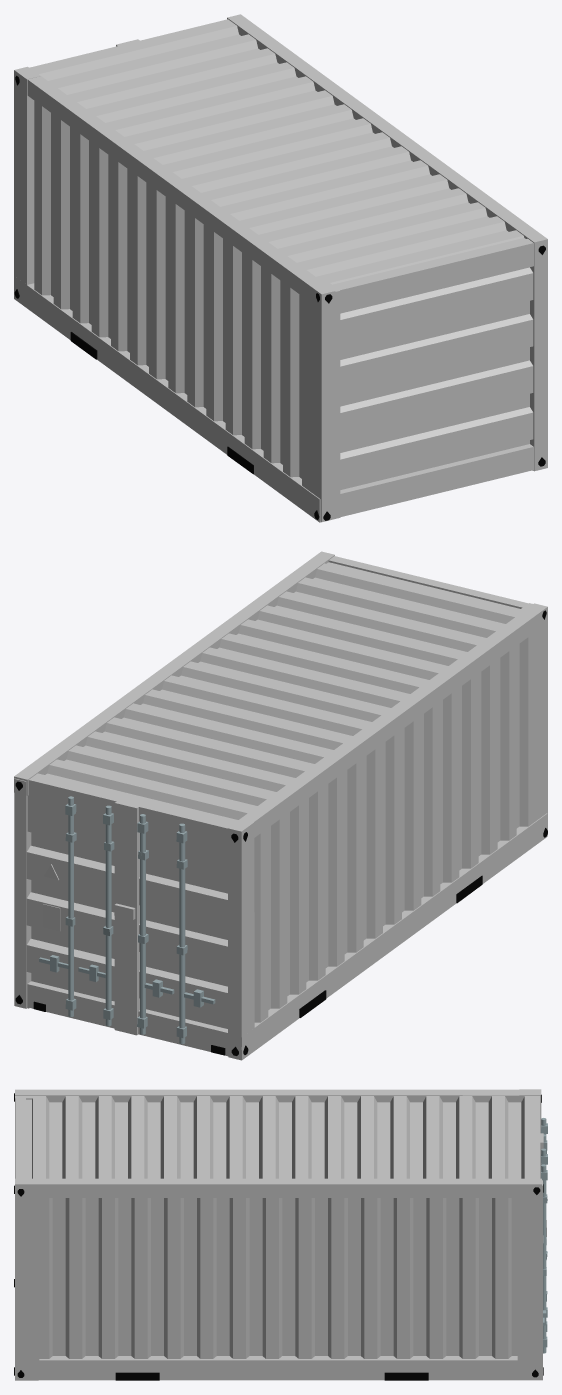
3 renders of one model, top to bottom at view 1: azimuth 30°, elevation 25°; view 2: azimuth 150°, elevation 25°; view 3: azimuth 270°, elevation 25°, orthographic. The views are drawn at different scales.
Size of the model in its own units: 1.34 by 1.28 by 3.16.
